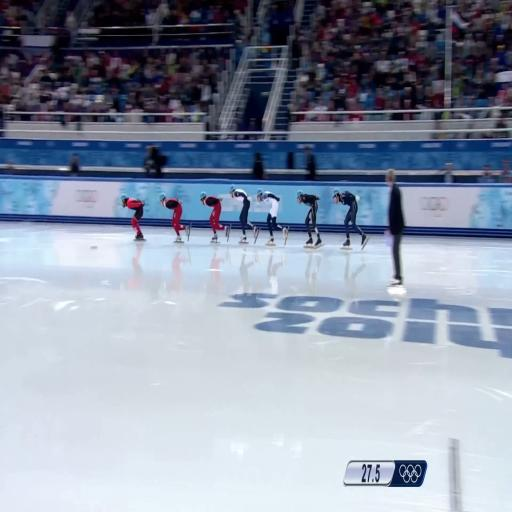Skater: (333, 189, 369, 249), (257, 189, 289, 246), (200, 192, 230, 243), (160, 193, 190, 243), (230, 186, 256, 243), (297, 191, 321, 248), (120, 195, 145, 241)
